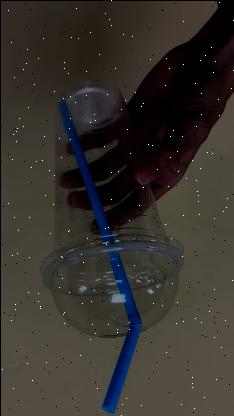Others: (39, 81, 183, 370)
